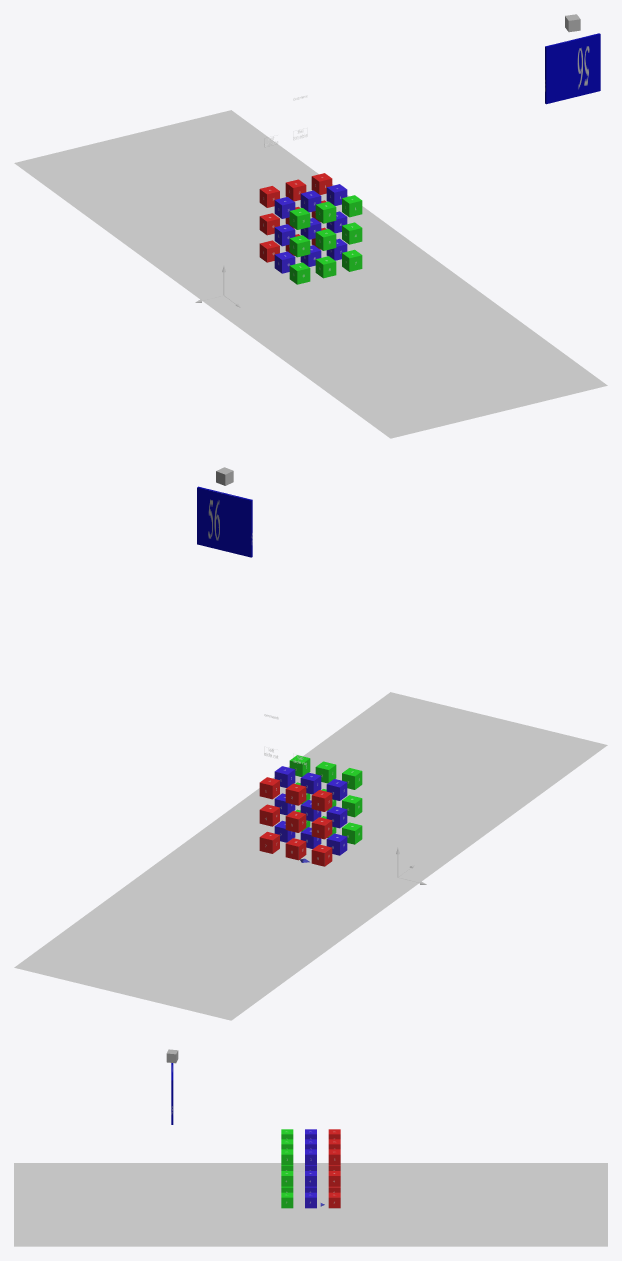
Rendered from vrubik_scene_blender.glb.
3 views of the same model, one above another, from view 1: azimuth 30°, elevation 25°; view 2: azimuth 150°, elevation 25°; view 3: azimuth 270°, elevation 25° (orthographic). The views are drawn at different scales.
Parts seen in each view (by area): view 1: ground, fps-panel; view 2: ground, fps-panel; view 3: ground.
Boxes of the visible parts, bbox=[...] form: ground: bbox=[14, 110, 607, 438]; fps-panel: bbox=[545, 33, 600, 104]; ground: bbox=[14, 692, 607, 1020]; fps-panel: bbox=[197, 486, 252, 557]; ground: bbox=[14, 1163, 607, 1246].
Size of the model in its own units: 14.6 by 12.35 by 30.
Materials: 34 (29 with a texture image).
